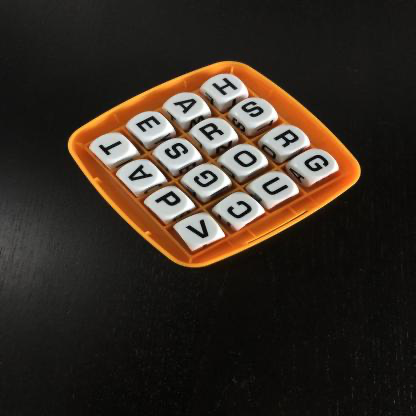a: (120, 161, 164, 192), (170, 93, 207, 120)
c: (221, 193, 267, 225)
e: (133, 111, 169, 140)
g: (187, 167, 229, 198), (298, 150, 340, 179)
h: (206, 75, 245, 103)
o: (224, 144, 264, 173)
p: (147, 191, 191, 220)
r: (197, 121, 233, 149), (268, 127, 304, 155)
s: (237, 98, 276, 127), (157, 139, 195, 167)
t: (94, 133, 133, 162)
u: (257, 171, 302, 203)
v: (181, 214, 227, 247)
